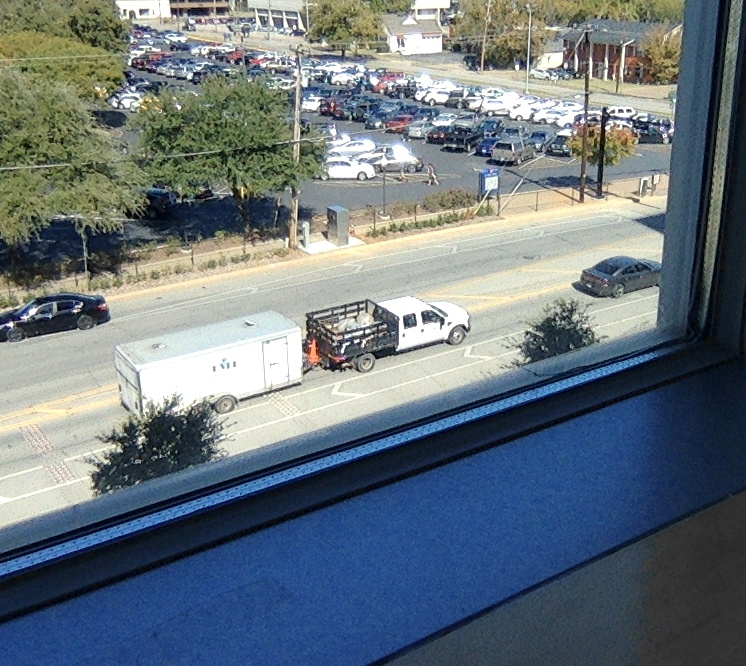car: (300, 300, 446, 377)
